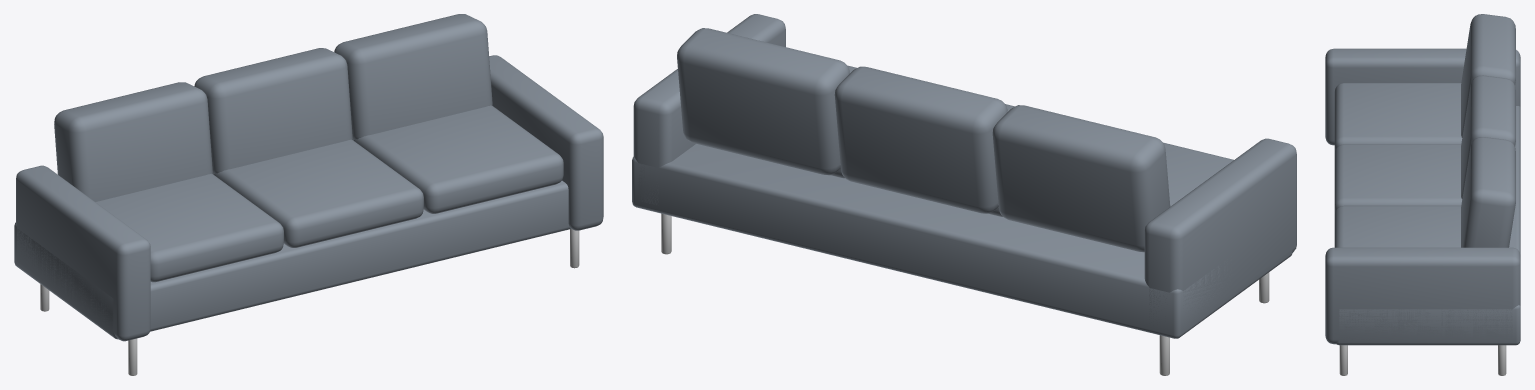
The model's file is lounge_sofa.glb.
3 renders of one model, left to right at view 1: azimuth 30°, elevation 25°; view 2: azimuth 150°, elevation 25°; view 3: azimuth 270°, elevation 25°, orthographic. The views are drawn at different scales.
Visible parts, largest first — view 1: Cube, Cylinder; view 2: Cube, Cylinder; view 3: Cube, Cylinder.
Part boxes in pixels (x1,y1,x2,y2): Cube: (14, 14, 603, 341); Cylinder: (40, 229, 579, 375); Cube: (632, 14, 1296, 338); Cylinder: (661, 213, 1269, 375); Cube: (1325, 14, 1520, 345); Cylinder: (1339, 345, 1506, 375).
Bounding box in the file's own units: 2.2 × 0.845 × 0.85.
